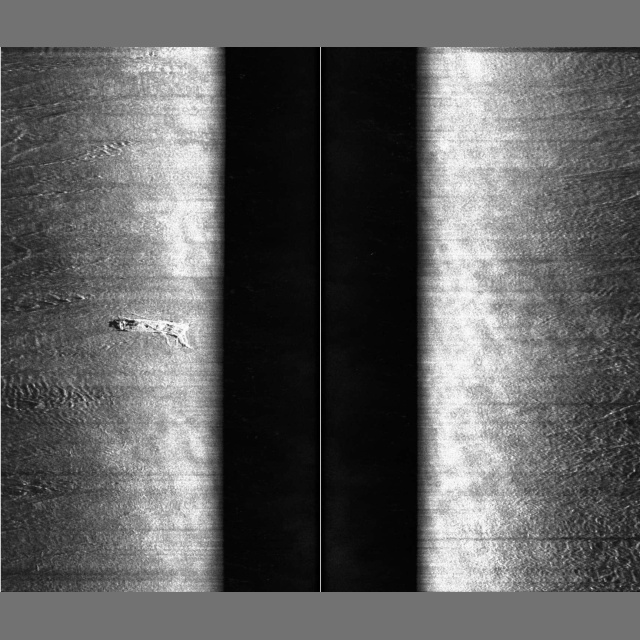Shipwreck: (112, 312, 196, 351)
